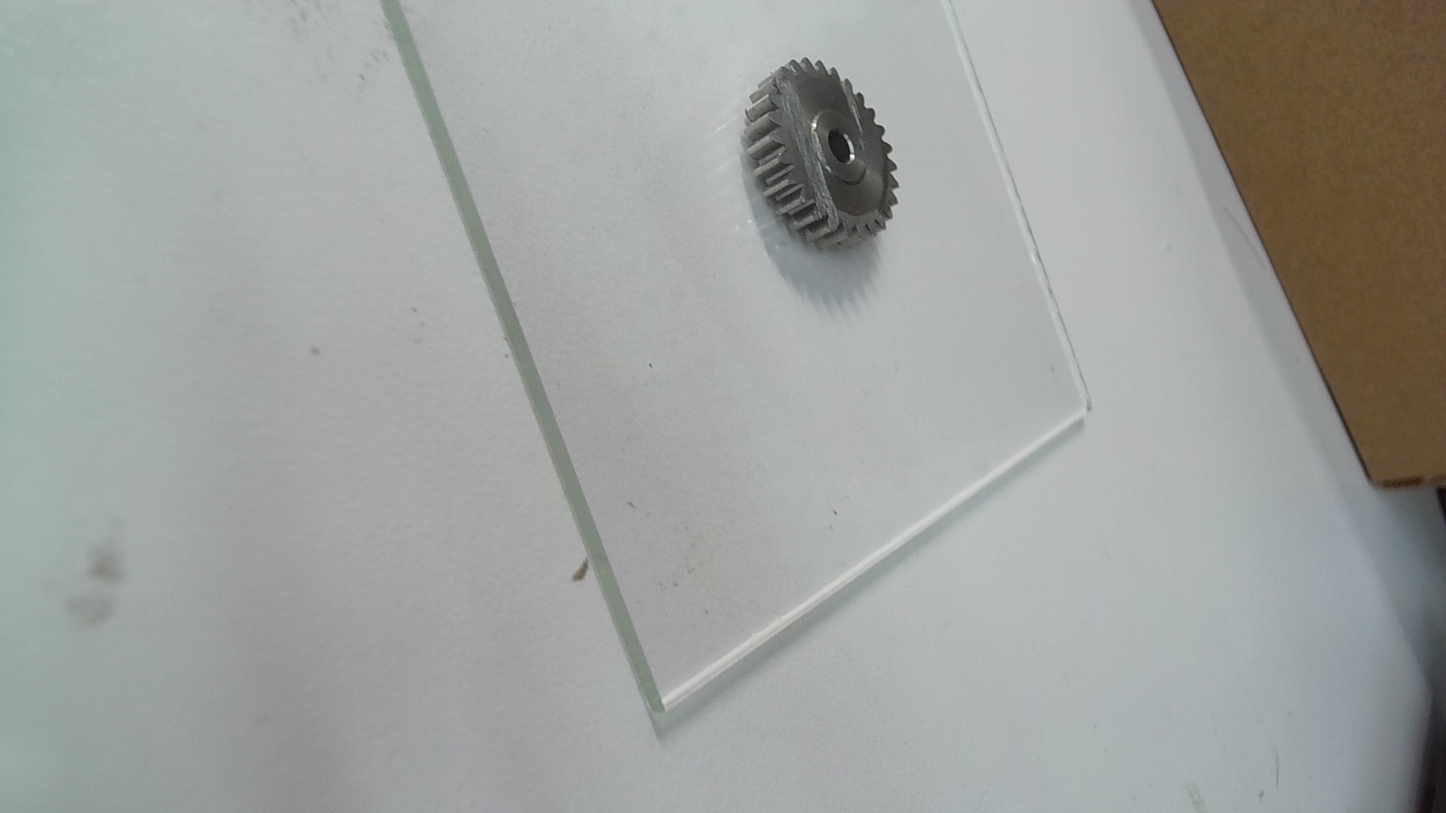gear: (743, 55, 902, 249)
